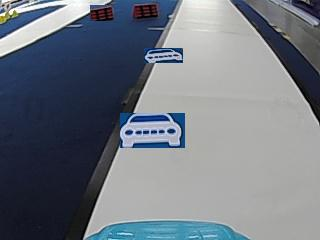bomb: (133, 2, 158, 17)
